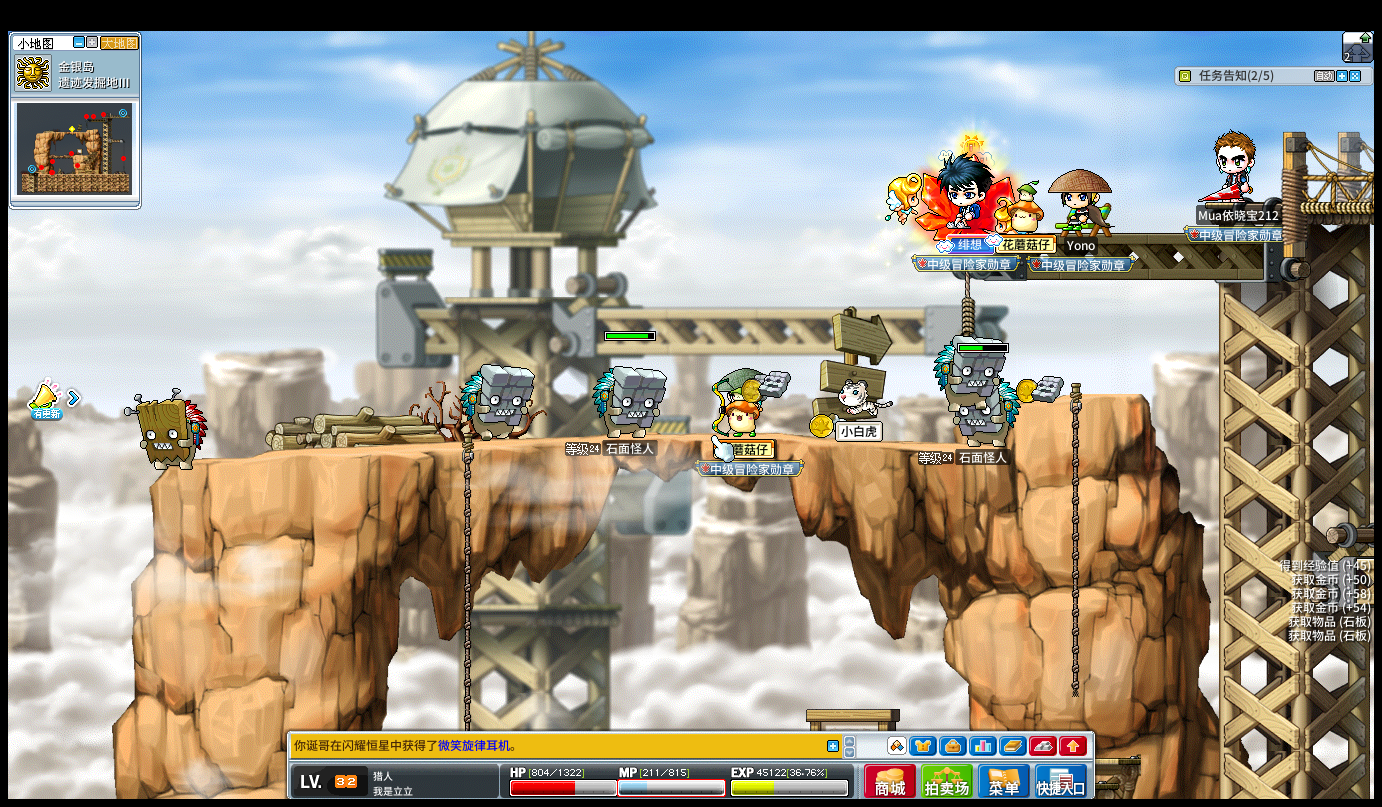floor: (172, 426, 1029, 455), (1032, 388, 1148, 403)
monster: (934, 334, 1018, 446), (128, 390, 208, 471), (935, 371, 1018, 446), (461, 363, 535, 442), (593, 364, 666, 436)
rope: (1067, 379, 1083, 711), (459, 427, 474, 762)
